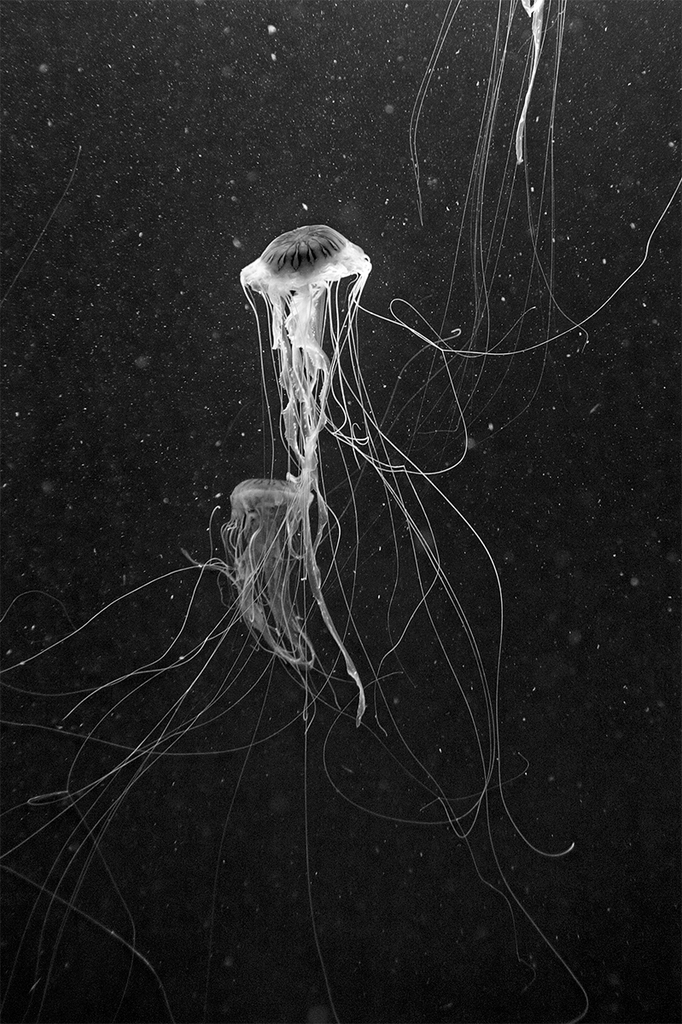Jellyfish: (238, 225, 572, 1022), (0, 469, 352, 990)
